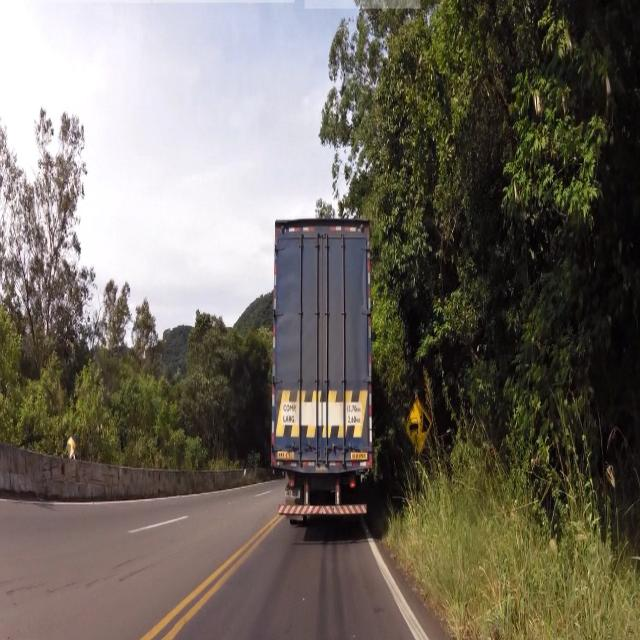A-27: (404, 394, 436, 458)
